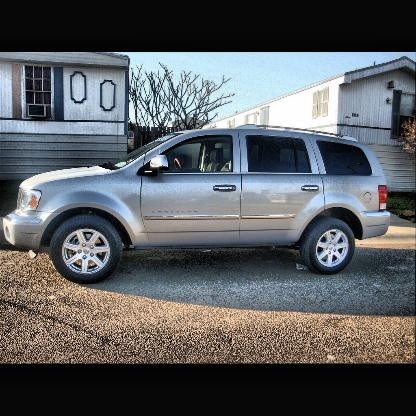Chrysler Aspen SUV 2009: (5, 124, 393, 286)
